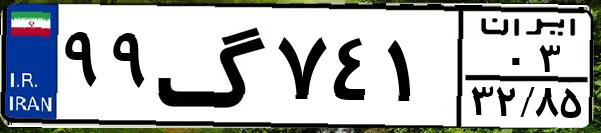0: (508, 27, 537, 80)
1: (385, 28, 445, 110)
2: (495, 70, 520, 125)
3: (537, 27, 568, 80), (470, 70, 495, 125)
4: (330, 28, 385, 110)
5: (560, 70, 590, 125)
7: (270, 28, 330, 110)
8: (535, 70, 560, 125)
9: (57, 26, 110, 100), (110, 28, 156, 98)
گ: (156, 12, 270, 120)
